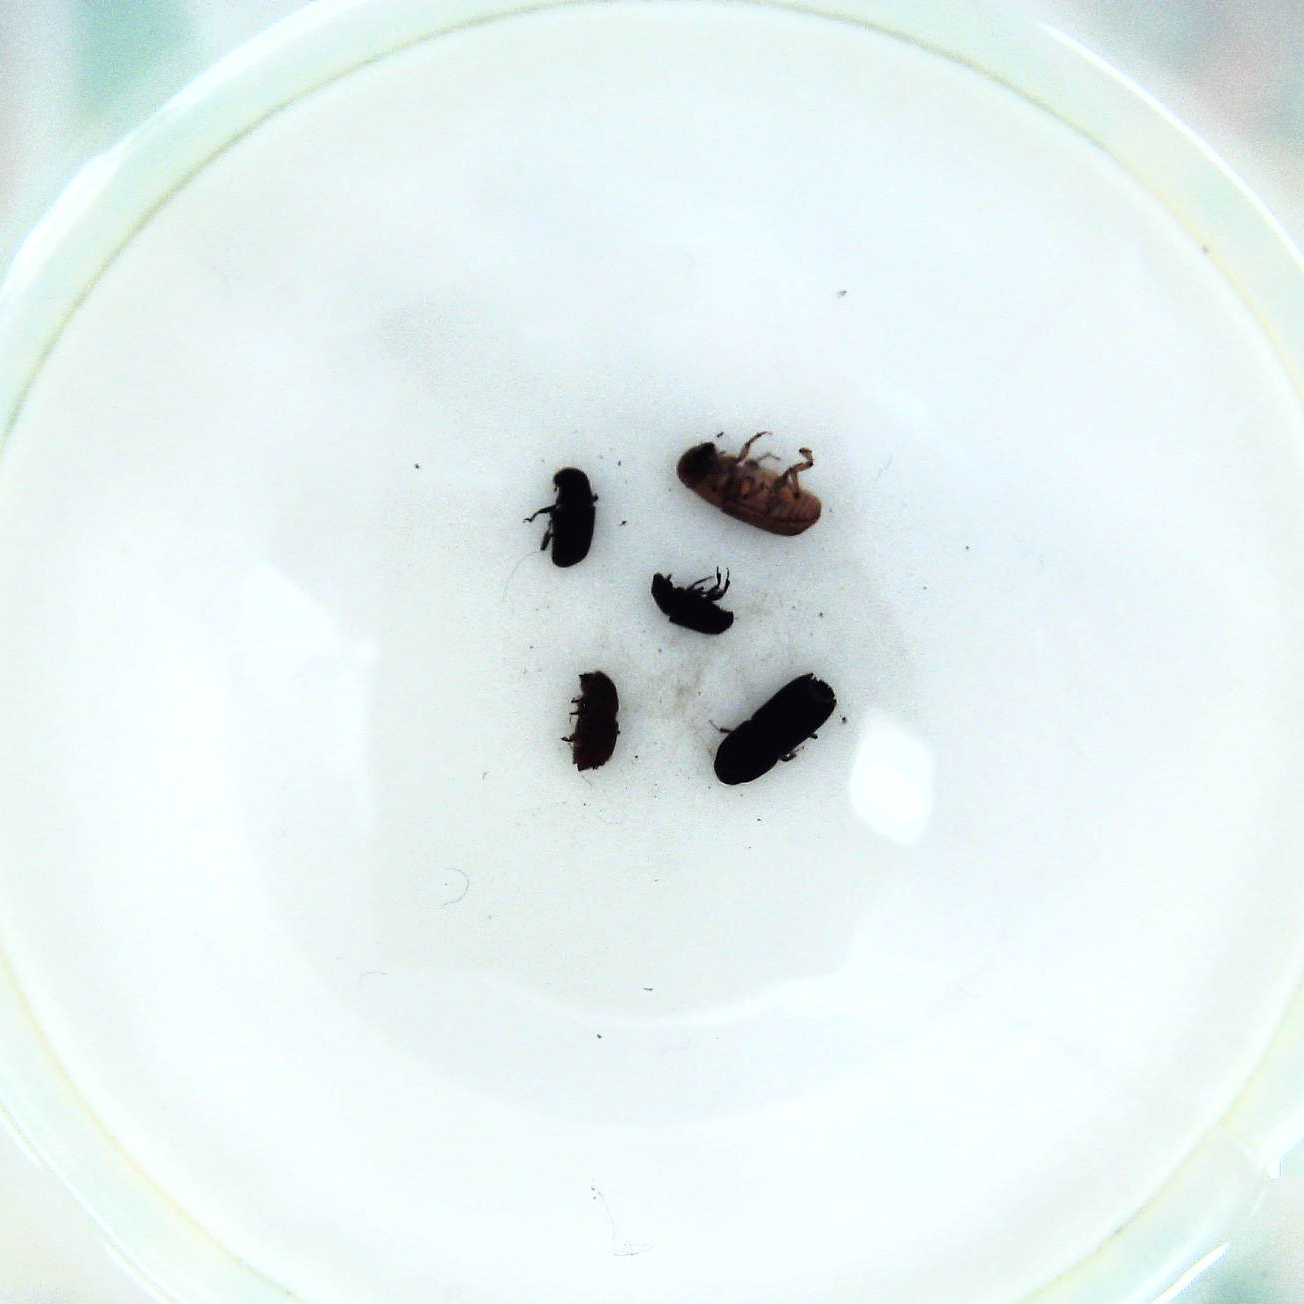Boerner: (713, 670, 843, 792)
Leconte: (673, 426, 835, 539)
armandi: (525, 463, 605, 573)
coleoptera: (642, 562, 743, 639)
linnaeus: (562, 668, 626, 780)
